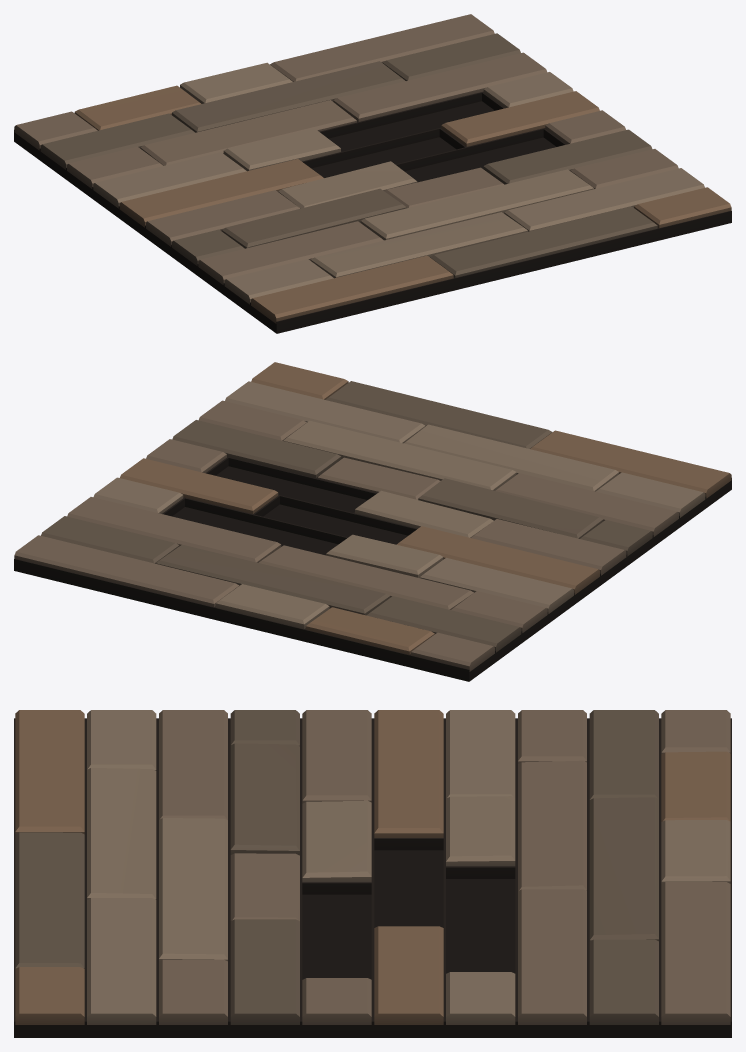
Rendered from floor_planks_rotten_large_A.glb.
3 renders of one model, top to bottom at view 1: azimuth 30°, elevation 25°; view 2: azimuth 150°, elevation 25°; view 3: azimuth 270°, elevation 25°, orthographic. The views are drawn at different scales.
Parts seen in each view (by area): view 1: Item; view 2: Item; view 3: Item.
Part boxes in pixels (x1=…): Item: x1=14, y1=14, x2=731, y2=333; Item: x1=14, y1=362, x2=731, y2=681; Item: x1=14, y1=710, x2=731, y2=1037.
Size of the model in its own units: 4 by 0.1689 by 4.
1 material, 1 textured.
